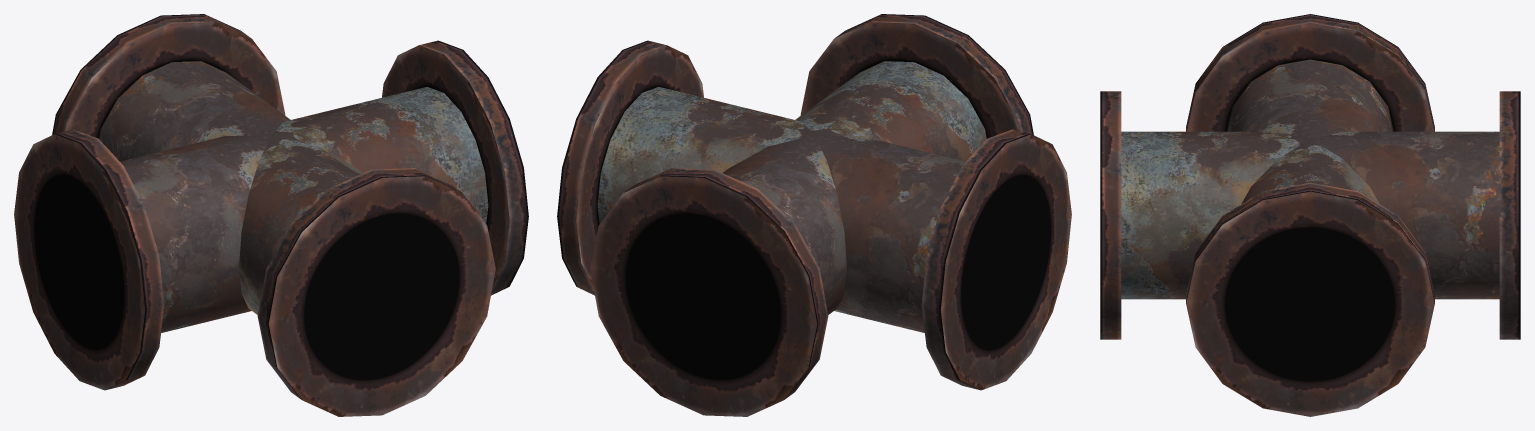
The model's file is pipe03_X.fbx.
3 renders of one model, left to right at view 1: azimuth 30°, elevation 25°; view 2: azimuth 150°, elevation 25°; view 3: azimuth 270°, elevation 25°, orthographic. The views are drawn at different scales.
Visible parts, largest first — view 1: pipe03_X; view 2: pipe03_X; view 3: pipe03_X.
Boxes of the visible parts, <box> form: pipe03_X: <box>14,14,528,416</box>; pipe03_X: <box>557,14,1071,416</box>; pipe03_X: <box>1100,14,1520,416</box>.
Size of the model in its own units: 100 by 59.2 by 100.
